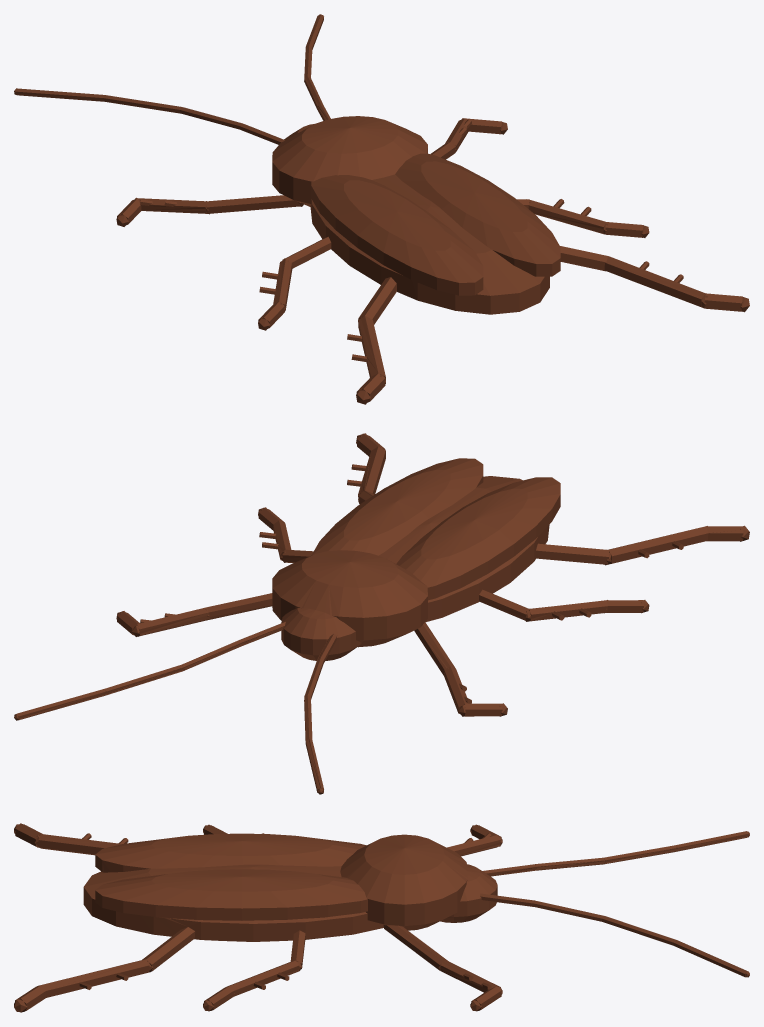
The model's file is NEW_RECOVERY_064_LOD1.fbx.
3 renders of one model, top to bottom at view 1: azimuth 30°, elevation 25°; view 2: azimuth 150°, elevation 25°; view 3: azimuth 270°, elevation 25°, orthographic. The views are drawn at different scales.
Parts seen in each view (by area): view 1: Cockroach; view 2: Cockroach; view 3: Cockroach.
Part boxes in pixels (left/top/right/bottom): Cockroach: left=14, top=14, right=749, bottom=404; Cockroach: left=14, top=433, right=749, bottom=794; Cockroach: left=14, top=823, right=749, bottom=1012.
Bounding box in the file's own units: 269 × 462 × 53.49.
